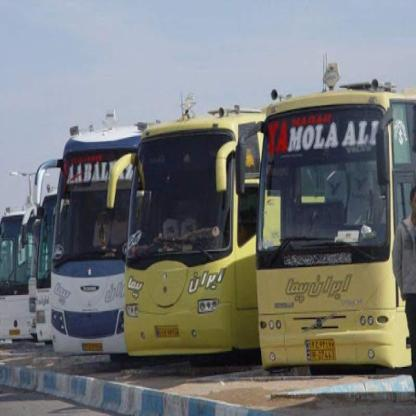Bus: (248, 76, 416, 388), (121, 106, 271, 363), (46, 119, 140, 352), (0, 200, 45, 351), (27, 188, 66, 341)
